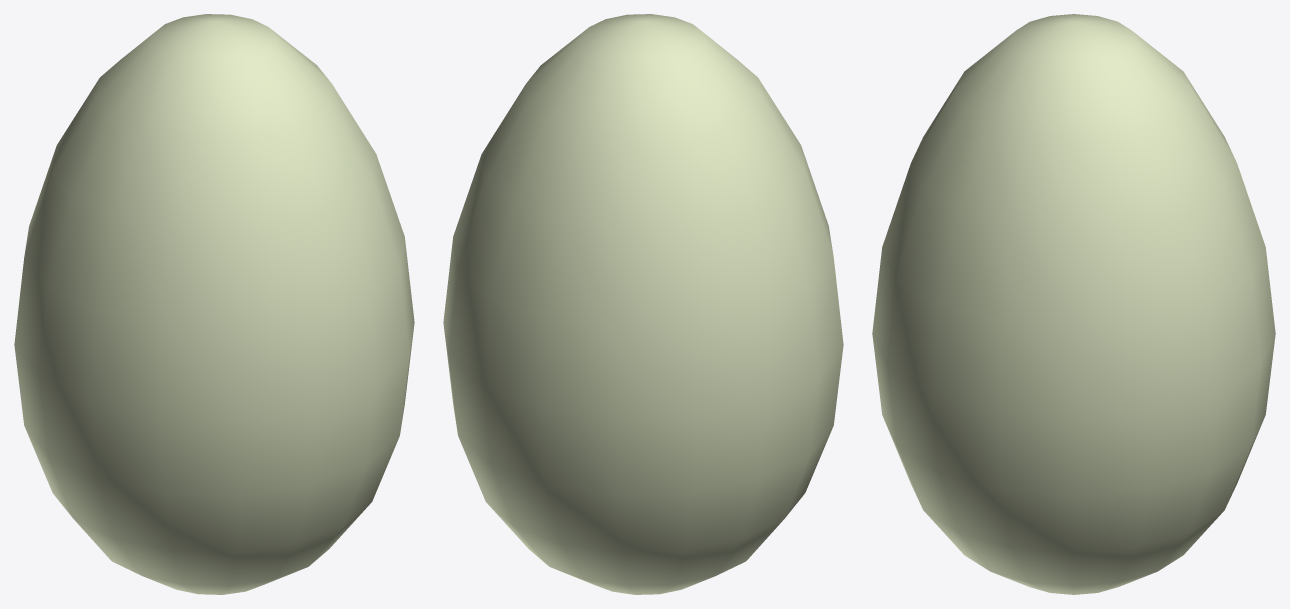
File: Huevo.fbx
3 renders of one model, left to right at view 1: azimuth 30°, elevation 25°; view 2: azimuth 150°, elevation 25°; view 3: azimuth 270°, elevation 25°, orthographic.
Parts seen in each view (by area): view 1: Huevo; view 2: Huevo; view 3: Huevo.
Part boxes in pixels (<box>): Huevo: <box>14,14,414,594</box>; Huevo: <box>443,14,843,594</box>; Huevo: <box>872,14,1275,594</box>.
Size of the model in its own units: 200 by 305 by 200.
